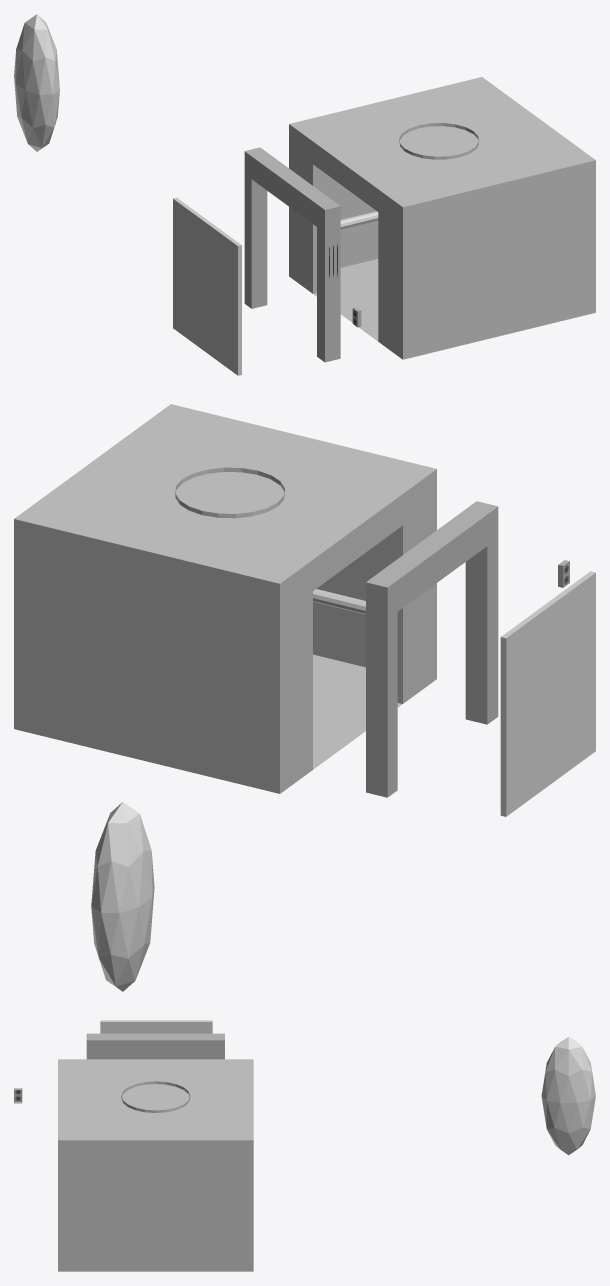
The model's file is Lift.fbx.
The picture shows the model from 3 angles, top to bottom: view 1: azimuth 30°, elevation 25°; view 2: azimuth 150°, elevation 25°; view 3: azimuth 270°, elevation 25°; orthographic projection. The views are drawn at different scales.
Visible parts, largest first — view 1: lift, Door, RightDoor, Corpse, LeftDoor, Lamp; view 2: lift, Door, LeftDoor, Corpse, RightDoor, Lamp; view 3: lift, Corpse, Door, RightDoor, LeftDoor, Lamp.
Boxes of the visible parts, bbox=[...] form: lift: bbox=[289, 77, 595, 359]; Door: bbox=[244, 147, 340, 362]; RightDoor: bbox=[205, 221, 241, 375]; Corpse: bbox=[14, 14, 59, 151]; LeftDoor: bbox=[173, 197, 208, 351]; Lamp: bbox=[399, 123, 478, 159]; lift: bbox=[14, 404, 436, 793]; Door: bbox=[366, 501, 498, 797]; LeftDoor: bbox=[500, 604, 550, 816]; Corpse: bbox=[91, 802, 154, 991]; RightDoor: bbox=[546, 571, 595, 783]; Lamp: bbox=[175, 467, 284, 518]; lift: bbox=[58, 1059, 253, 1271]; Corpse: bbox=[541, 1037, 595, 1155]; Door: bbox=[86, 1033, 224, 1059]; RightDoor: bbox=[100, 1020, 156, 1033]; LeftDoor: bbox=[156, 1020, 212, 1033]; Lamp: bbox=[121, 1081, 190, 1112].
Size of the model in its own units: 457 by 204 by 804.
